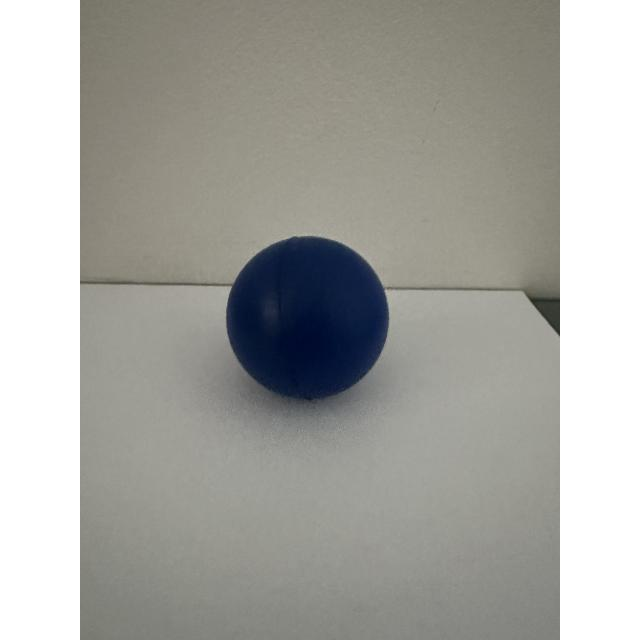blue_ball: (213, 170, 424, 440)
